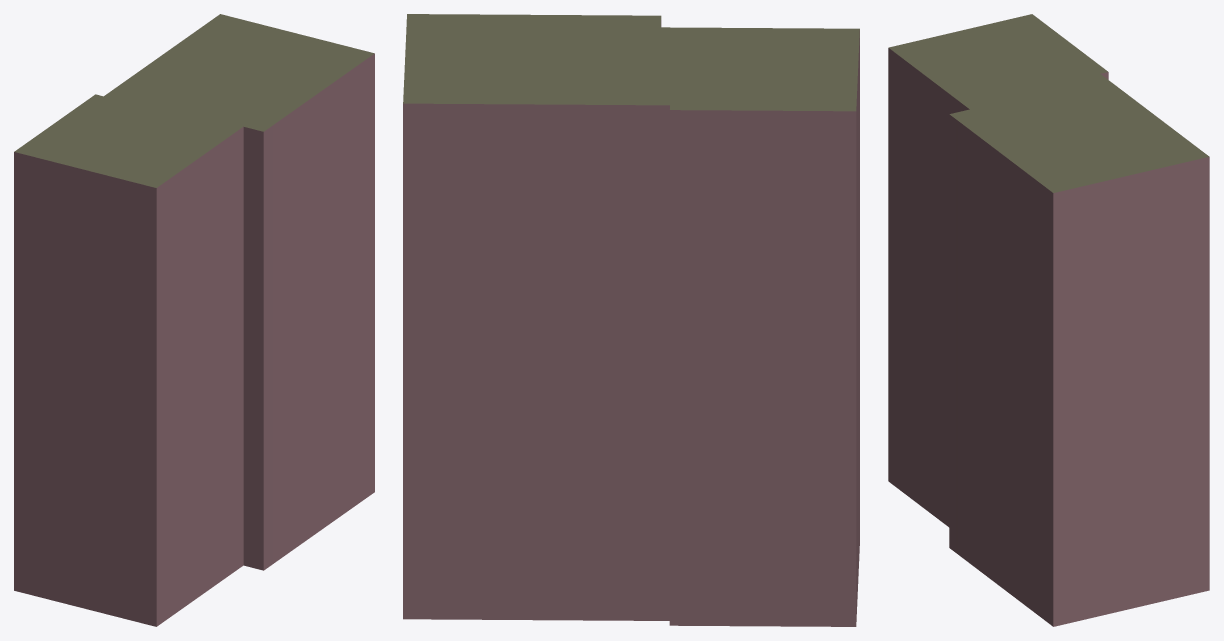
Rendered from nyc-1034313-0.glb.
3 renders of one model, left to right at view 1: azimuth 30°, elevation 25°; view 2: azimuth 150°, elevation 25°; view 3: azimuth 270°, elevation 25°, orthographic. The views are drawn at different scales.
Visible parts, largest first — view 1: nyc-1034313-0; view 2: nyc-1034313-0; view 3: nyc-1034313-0.
Boxes of the visible parts, <box> form: nyc-1034313-0: <box>14,14,374,626</box>; nyc-1034313-0: <box>403,14,859,626</box>; nyc-1034313-0: <box>888,14,1209,626</box>.
Size of the model in its own units: 69.68 by 78.64 by 52.78.
